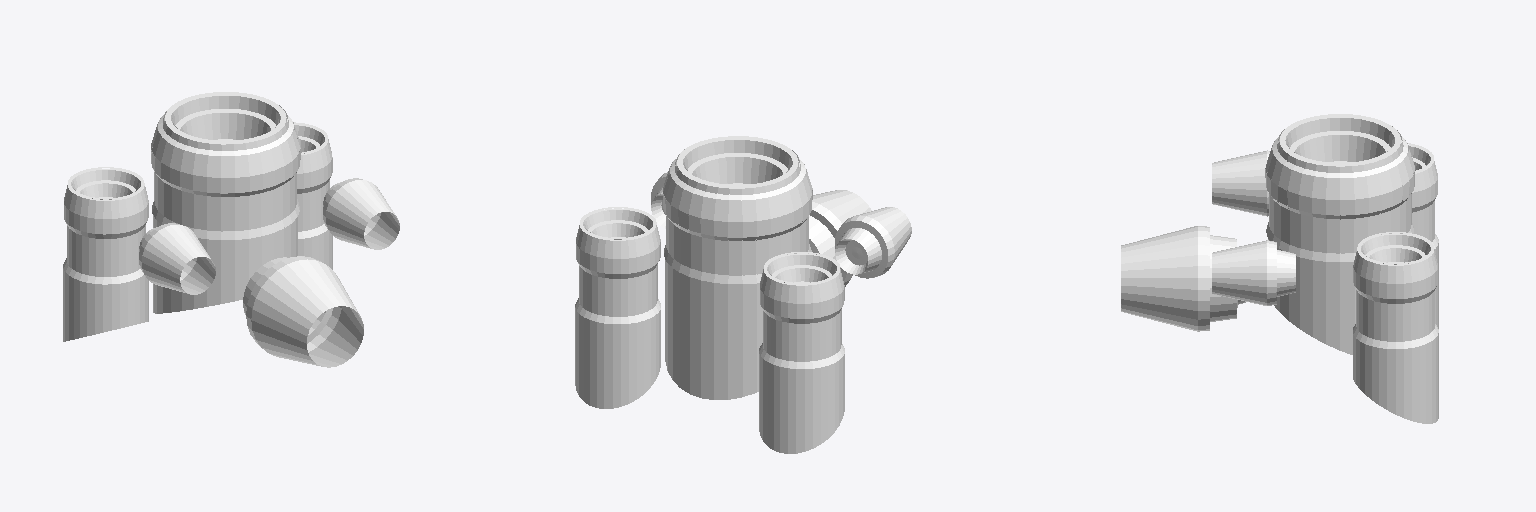
The model's file is Empire_Ton_Falk_Carrier_Engines.obj.
3 views of the same model, side by side, from view 1: azimuth 30°, elevation 25°; view 2: azimuth 150°, elevation 25°; view 3: azimuth 270°, elevation 25° (orthographic).
Visible parts, largest first — view 1: Engine_Greeblies, Engines_Greeblies_Lights, Engine_Glow; view 2: Engine_Greeblies, Engines_Greeblies_Lights, Engine_Glow; view 3: Engine_Greeblies, Engines_Greeblies_Lights, Engine_Glow.
Boxes of the visible parts, x1=… form: Engine_Greeblies: x1=63, y1=94, x2=332, y2=341; Engines_Greeblies_Lights: x1=68, y1=92, x2=327, y2=239; Engine_Glow: x1=139, y1=178, x2=399, y2=367; Engine_Greeblies: x1=575, y1=138, x2=844, y2=453; Engines_Greeblies_Lights: x1=580, y1=136, x2=839, y2=283; Engine_Glow: x1=651, y1=172, x2=911, y2=286; Engine_Greeblies: x1=1267, y1=116, x2=1438, y2=423; Engines_Greeblies_Lights: x1=1265, y1=114, x2=1433, y2=264; Engine_Glow: x1=1121, y1=150, x2=1295, y2=331.
Bounding box in the file's own units: 46.76 × 40.21 × 49.76.